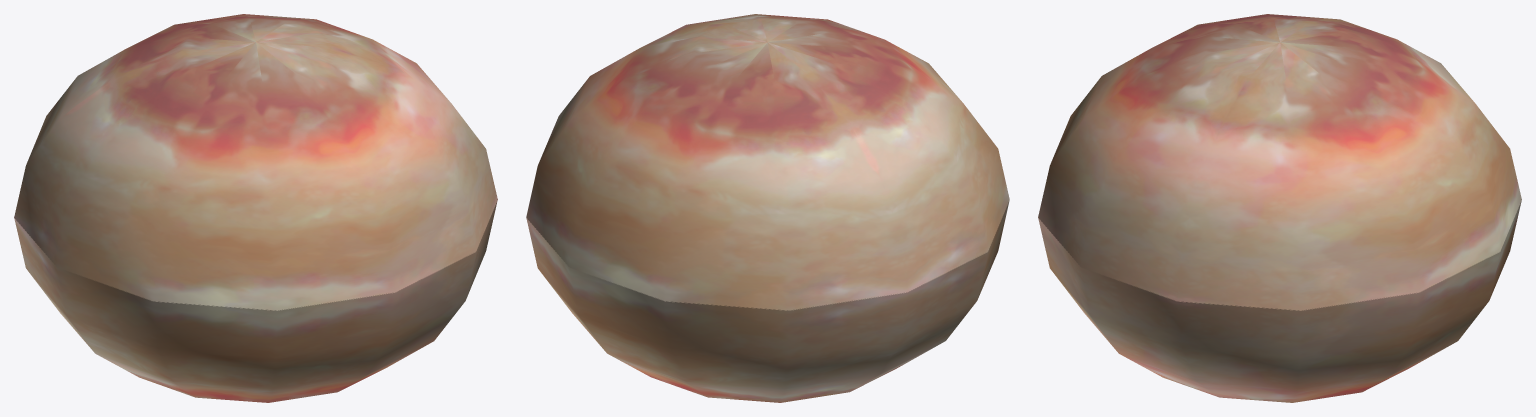
The model's file is env_besp_lobby_01_pre.glb.
3 renders of one model, left to right at view 1: azimuth 30°, elevation 25°; view 2: azimuth 150°, elevation 25°; view 3: azimuth 270°, elevation 25°, orthographic.
Visible parts, largest first — view 1: skybox_01_mesh (1), skybox_01_mesh; view 2: skybox_01_mesh (1), skybox_01_mesh; view 3: skybox_01_mesh (1), skybox_01_mesh.
Part boxes in pixels (x1,y1,x2,y2): skybox_01_mesh (1): (14, 14, 497, 310); skybox_01_mesh: (14, 199, 497, 402); skybox_01_mesh (1): (526, 14, 1009, 310); skybox_01_mesh: (526, 201, 1009, 402); skybox_01_mesh (1): (1038, 14, 1521, 310); skybox_01_mesh: (1038, 201, 1521, 402).
Bounding box in the file's own units: 1956 × 1482 × 1956.
29 materials, 29 textured.
